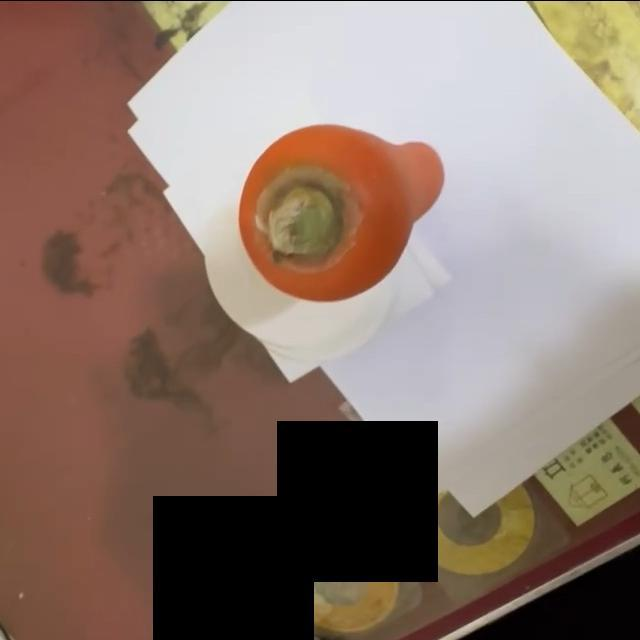carrot: (237, 124, 449, 303)
